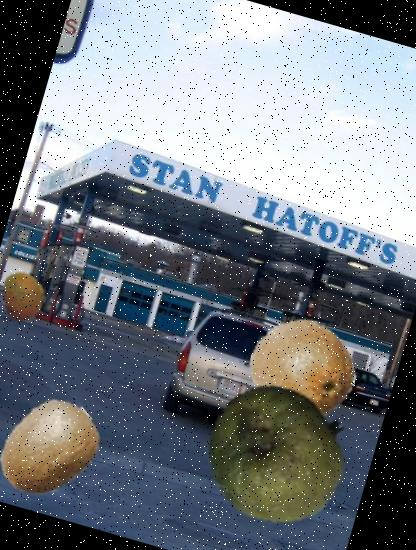Kiwi: (236, 302, 370, 437), (0, 383, 113, 513)
Limes: (190, 365, 366, 542)
Mandarine: (0, 265, 55, 328)
Melon: (244, 316, 364, 436)
